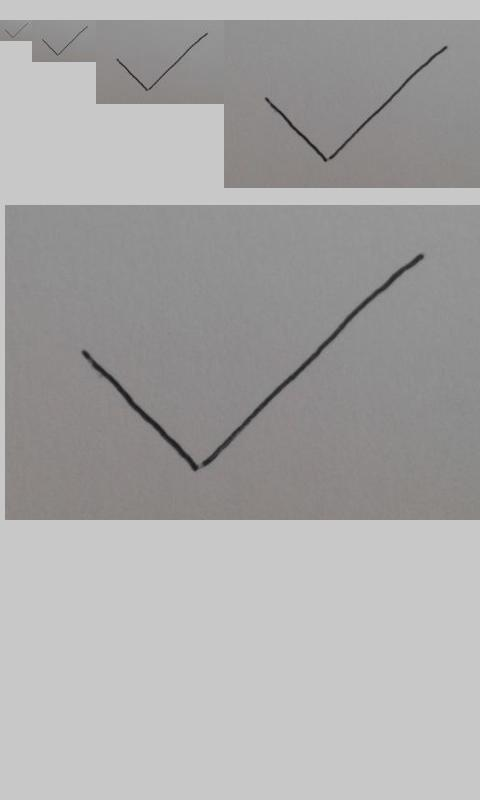check_box: (80, 251, 423, 474), (265, 45, 447, 162), (116, 32, 208, 92), (41, 26, 87, 56), (5, 23, 28, 38)
